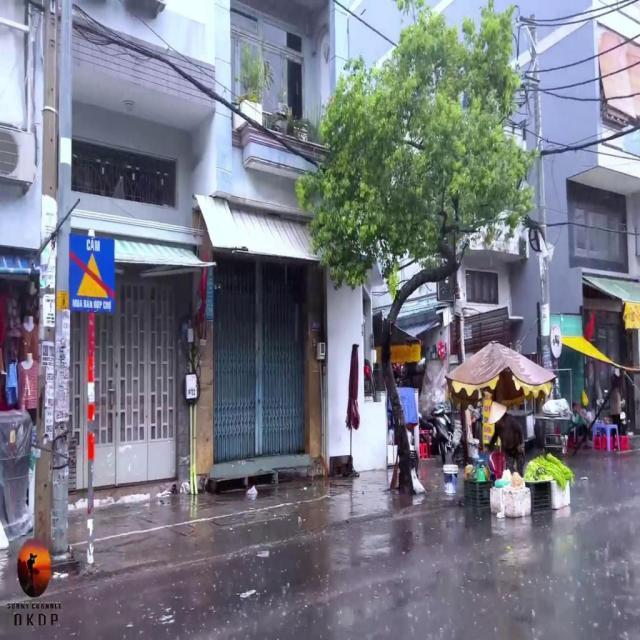106-cam-oto-tai: (550, 324, 562, 360)
